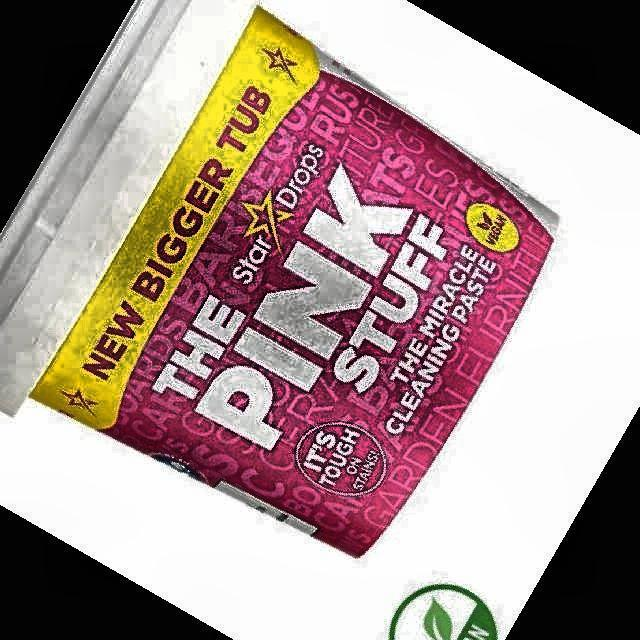plastic: (0, 1, 556, 555)
